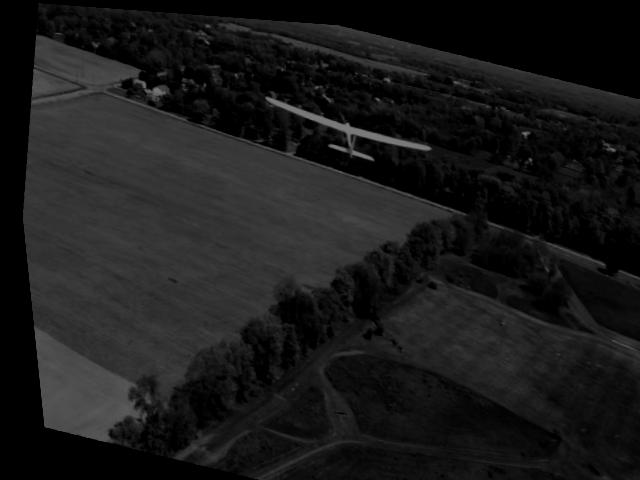hedef: (242, 75, 449, 199)
